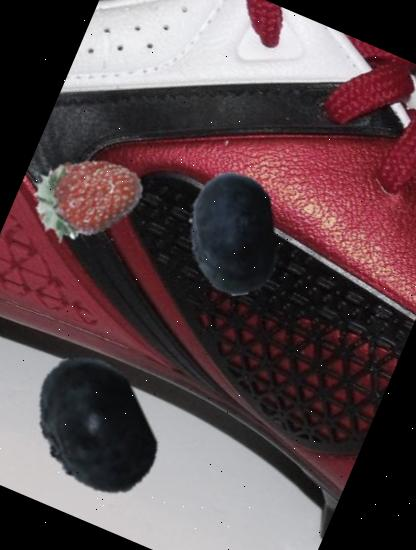Blueberry: (0, 330, 190, 524), (150, 154, 312, 315)
Strawberry: (13, 122, 160, 268)
